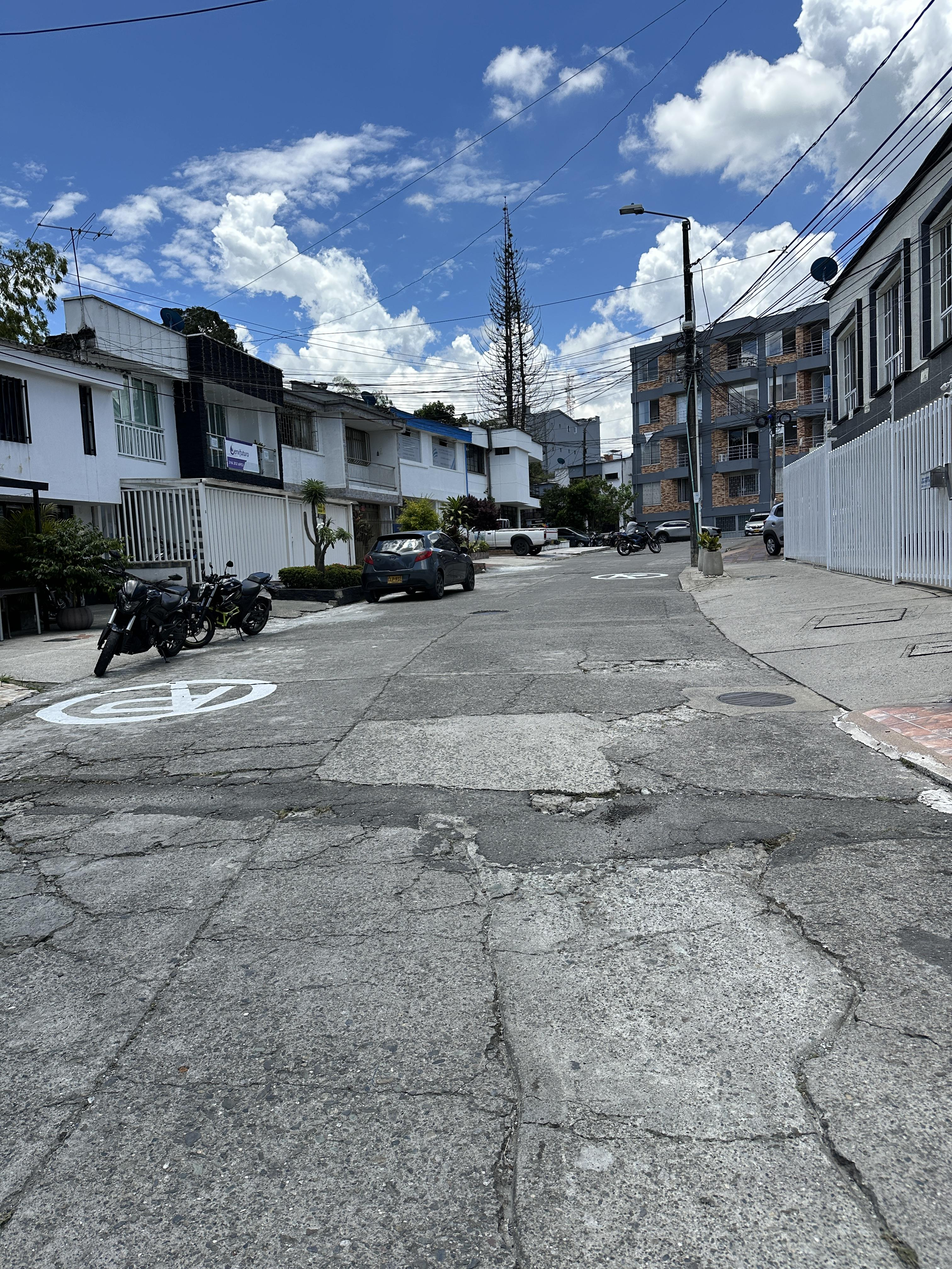bache: (700, 833, 792, 887), (0, 791, 61, 826), (529, 791, 614, 815), (280, 805, 336, 819)
grieta: (557, 895, 941, 1269), (387, 838, 629, 1269), (0, 811, 260, 959), (0, 720, 376, 790), (605, 753, 918, 806), (573, 699, 724, 734), (574, 651, 717, 675)
registro: (717, 691, 795, 707), (471, 610, 509, 615)
